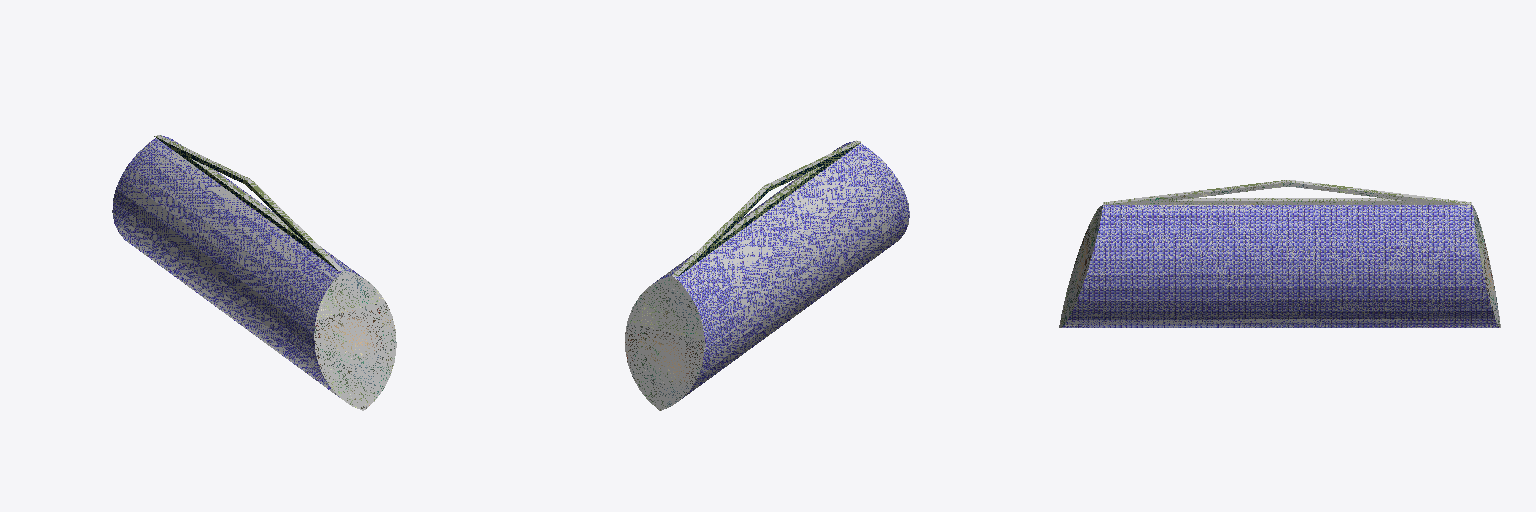
3 renders of one model, left to right at view 1: azimuth 30°, elevation 25°; view 2: azimuth 150°, elevation 25°; view 3: azimuth 270°, elevation 25°, orthographic.
Parts seen in each view (by area): view 1: mesh1_mesh1-geometry; view 2: mesh1_mesh1-geometry; view 3: mesh1_mesh1-geometry.
Boxes of the visible parts, box(x1,y1,x2,y2) form: mesh1_mesh1-geometry: box(112, 135, 396, 410); mesh1_mesh1-geometry: box(625, 140, 909, 410); mesh1_mesh1-geometry: box(1059, 180, 1500, 327).
Size of the model in its own units: 0.1963 by 0.3382 by 0.9204.
Materials: 6 (2 with a texture image).